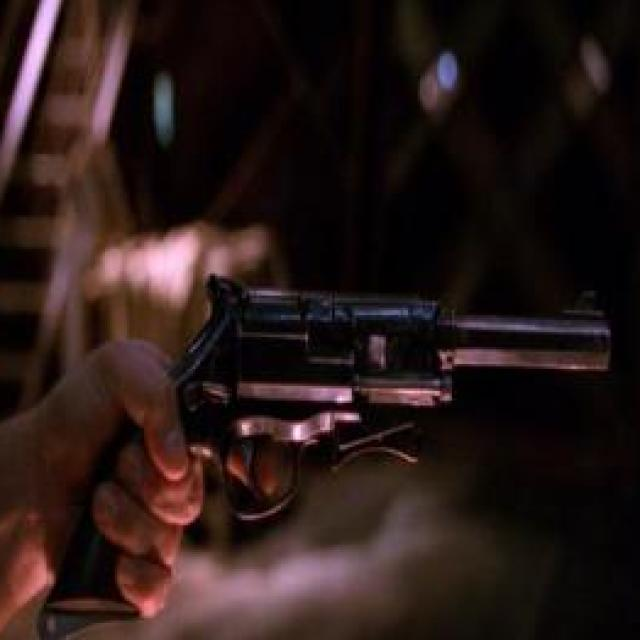pistol: (42, 219, 640, 637)
